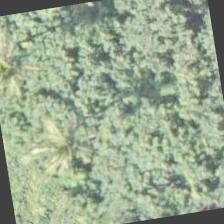Kelapa_Sawit: (11, 94, 114, 196), (0, 17, 49, 115)
